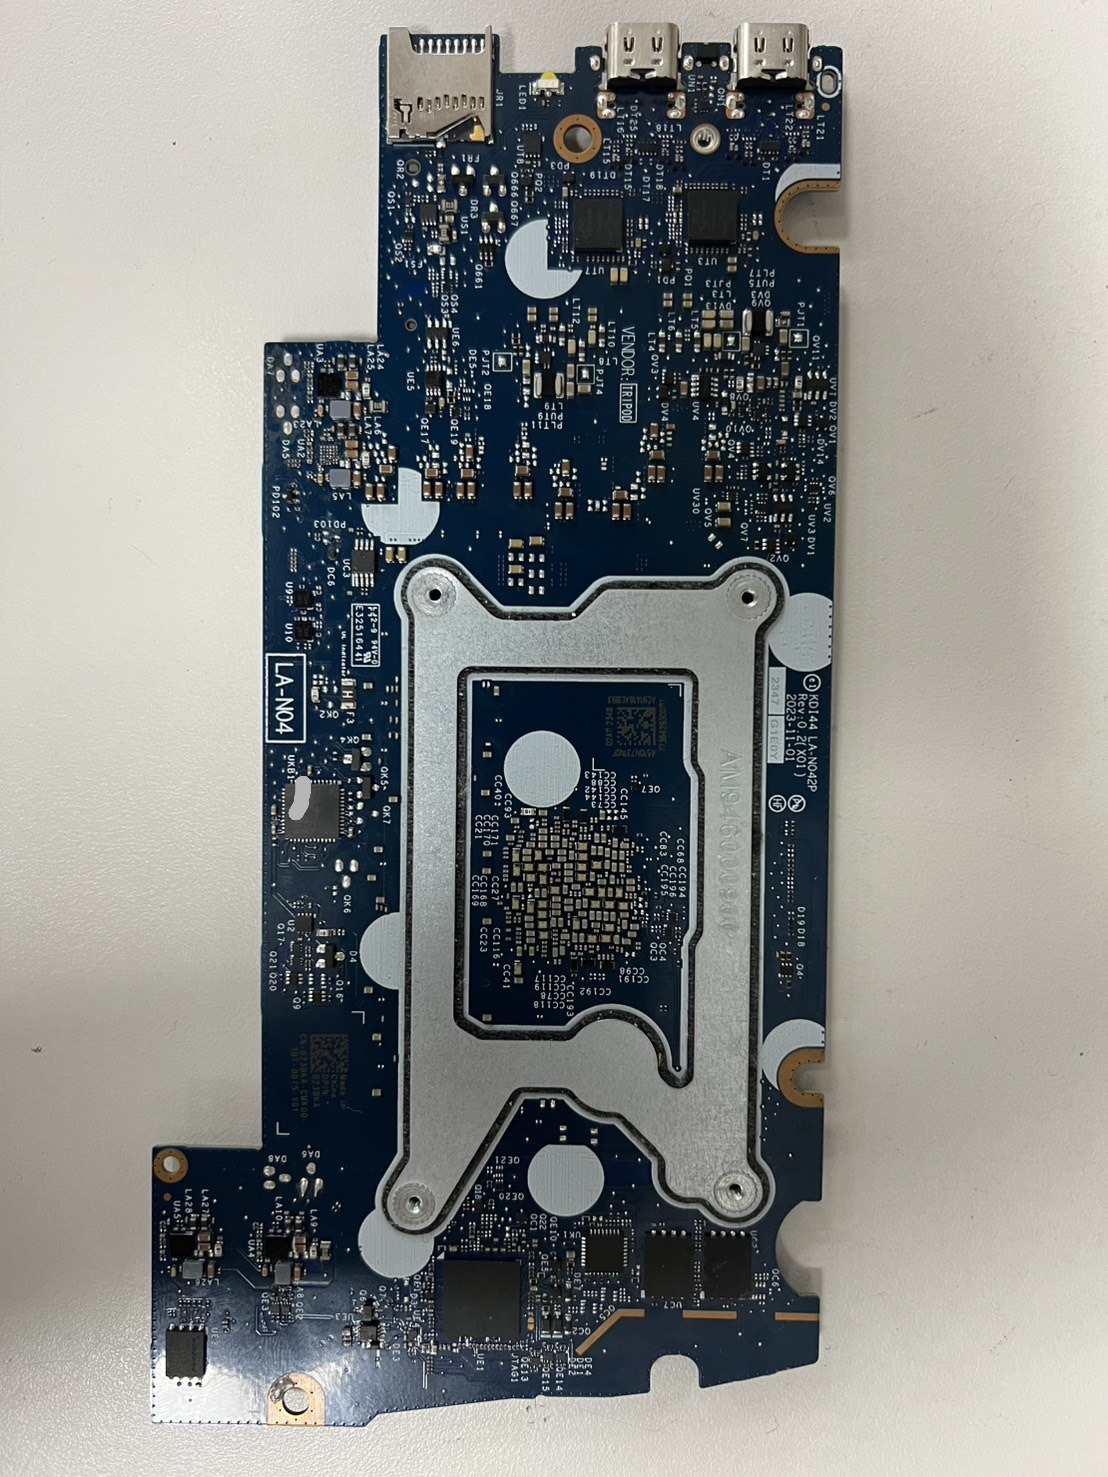error-garbage: (280, 771, 321, 832)
error-missing: (315, 441, 341, 467)
